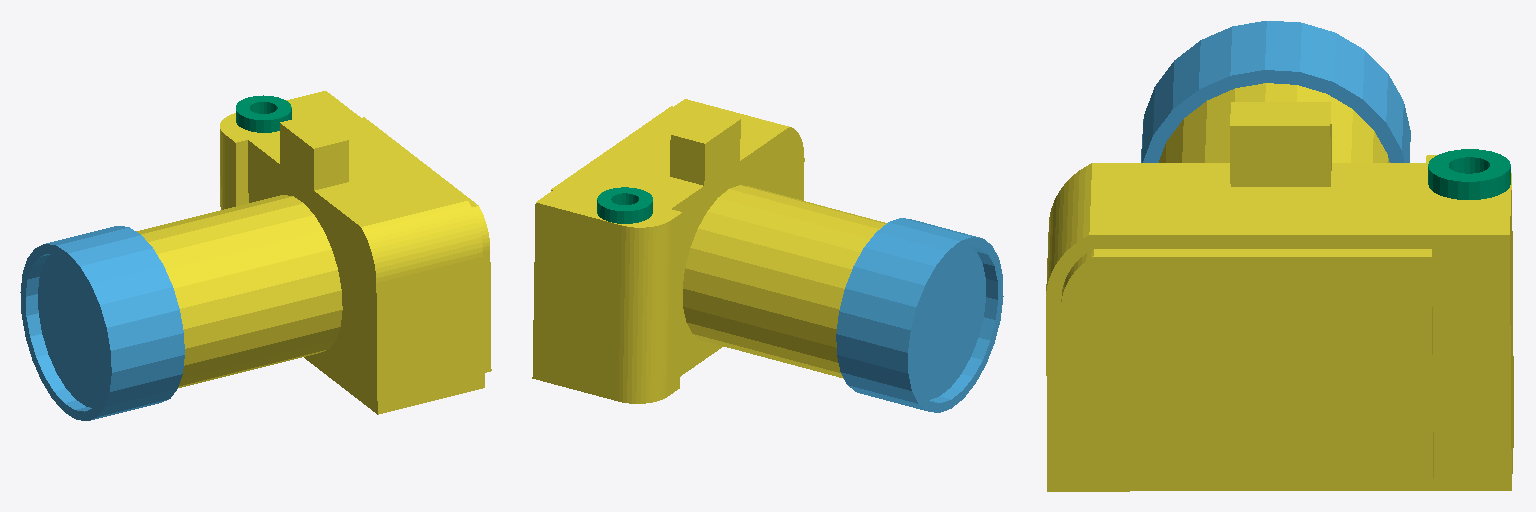
The robot description file, URDF, robot "partnet_cfa38a13-3ce2-4cd8-bfe1-3fa303e247cb":
<?xml version="1.0" ?>
<robot name="partnet_cfa38a13-3ce2-4cd8-bfe1-3fa303e247cb">
	<link name="base"/>
	<link name="link_0">
		<visual name="lens-1">
			<origin xyz="-0.045328572316667884 0.009761024184854892 -0.0005771129075103513"/>
			<geometry>
				<mesh filename="textured_objs/original-16.obj"/>
			</geometry>
		</visual>
		<visual name="lens-1">
			<origin xyz="-0.045328572316667884 0.009761024184854892 -0.0005771129075103513"/>
			<geometry>
				<mesh filename="textured_objs/original-18.obj"/>
			</geometry>
		</visual>
		<visual name="lens-1">
			<origin xyz="-0.045328572316667884 0.009761024184854892 -0.0005771129075103513"/>
			<geometry>
				<mesh filename="textured_objs/original-17.obj"/>
			</geometry>
		</visual>
		<visual name="lens-1">
			<origin xyz="-0.045328572316667884 0.009761024184854892 -0.0005771129075103513"/>
			<geometry>
				<mesh filename="textured_objs/original-12.obj"/>
			</geometry>
		</visual>
		<visual name="lens-1">
			<origin xyz="-0.045328572316667884 0.009761024184854892 -0.0005771129075103513"/>
			<geometry>
				<mesh filename="textured_objs/original-22.obj"/>
			</geometry>
		</visual>
		<visual name="lens-1">
			<origin xyz="-0.045328572316667884 0.009761024184854892 -0.0005771129075103513"/>
			<geometry>
				<mesh filename="textured_objs/original-23.obj"/>
			</geometry>
		</visual>
		<collision>
			<origin xyz="-0.045328572316667884 0.009761024184854892 -0.0005771129075103513"/>
			<geometry>
				<mesh filename="textured_objs/original-16.obj"/>
			</geometry>
		</collision>
		<collision>
			<origin xyz="-0.045328572316667884 0.009761024184854892 -0.0005771129075103513"/>
			<geometry>
				<mesh filename="textured_objs/original-18.obj"/>
			</geometry>
		</collision>
		<collision>
			<origin xyz="-0.045328572316667884 0.009761024184854892 -0.0005771129075103513"/>
			<geometry>
				<mesh filename="textured_objs/original-17.obj"/>
			</geometry>
		</collision>
		<collision>
			<origin xyz="-0.045328572316667884 0.009761024184854892 -0.0005771129075103513"/>
			<geometry>
				<mesh filename="textured_objs/original-12.obj"/>
			</geometry>
		</collision>
		<collision>
			<origin xyz="-0.045328572316667884 0.009761024184854892 -0.0005771129075103513"/>
			<geometry>
				<mesh filename="textured_objs/original-22.obj"/>
			</geometry>
		</collision>
		<collision>
			<origin xyz="-0.045328572316667884 0.009761024184854892 -0.0005771129075103513"/>
			<geometry>
				<mesh filename="textured_objs/original-23.obj"/>
			</geometry>
		</collision>
	</link>
	<joint name="joint_0" type="continuous">
		<origin xyz="0.045328572316667884 -0.009761024184854892 0.0005771129075103513"/>
		<axis xyz="-0.015700129981561266 -0.013797493536876352 0.99978154368375"/>
		<child link="link_0"/>
		<parent link="link_2"/>
	</joint>
	<link name="link_1">
		<visual name="button-2">
			<origin xyz="0.5121479458437418 -0.008256107352878074 0.32324092971582635"/>
			<geometry>
				<mesh filename="textured_objs/original-5.obj"/>
			</geometry>
		</visual>
		<visual name="button-2">
			<origin xyz="0.5121479458437418 -0.008256107352878074 0.32324092971582635"/>
			<geometry>
				<mesh filename="textured_objs/original-6.obj"/>
			</geometry>
		</visual>
		<collision>
			<origin xyz="0.5121479458437418 -0.008256107352878074 0.32324092971582635"/>
			<geometry>
				<mesh filename="textured_objs/original-5.obj"/>
			</geometry>
		</collision>
		<collision>
			<origin xyz="0.5121479458437418 -0.008256107352878074 0.32324092971582635"/>
			<geometry>
				<mesh filename="textured_objs/original-6.obj"/>
			</geometry>
		</collision>
	</link>
	<joint name="joint_1" type="prismatic">
		<origin xyz="-0.5121479458437418 0.008256107352878074 -0.32324092971582635"/>
		<axis xyz="-0.007326904123584097 -0.999876133324162 -0.013929626150283573"/>
		<child link="link_1"/>
		<parent link="link_2"/>
		<limit lower="0" upper="0.052000000000000046"/>
	</joint>
	<link name="link_2">
		<visual name="base_body-3">
			<origin xyz="0 0 0"/>
			<geometry>
				<mesh filename="textured_objs/original-21.obj"/>
			</geometry>
		</visual>
		<visual name="base_body-3">
			<origin xyz="0 0 0"/>
			<geometry>
				<mesh filename="textured_objs/original-28.obj"/>
			</geometry>
		</visual>
		<visual name="base_body-3">
			<origin xyz="0 0 0"/>
			<geometry>
				<mesh filename="textured_objs/original-26.obj"/>
			</geometry>
		</visual>
		<visual name="base_body-3">
			<origin xyz="0 0 0"/>
			<geometry>
				<mesh filename="textured_objs/original-3.obj"/>
			</geometry>
		</visual>
		<visual name="base_body-3">
			<origin xyz="0 0 0"/>
			<geometry>
				<mesh filename="textured_objs/original-2.obj"/>
			</geometry>
		</visual>
		<visual name="base_body-3">
			<origin xyz="0 0 0"/>
			<geometry>
				<mesh filename="textured_objs/original-8.obj"/>
			</geometry>
		</visual>
		<visual name="base_body-3">
			<origin xyz="0 0 0"/>
			<geometry>
				<mesh filename="textured_objs/original-13.obj"/>
			</geometry>
		</visual>
		<visual name="base_body-3">
			<origin xyz="0 0 0"/>
			<geometry>
				<mesh filename="textured_objs/original-9.obj"/>
			</geometry>
		</visual>
		<visual name="base_body-3">
			<origin xyz="0 0 0"/>
			<geometry>
				<mesh filename="textured_objs/original-27.obj"/>
			</geometry>
		</visual>
		<visual name="base_body-3">
			<origin xyz="0 0 0"/>
			<geometry>
				<mesh filename="textured_objs/original-15.obj"/>
			</geometry>
		</visual>
		<visual name="base_body-3">
			<origin xyz="0 0 0"/>
			<geometry>
				<mesh filename="textured_objs/original-11.obj"/>
			</geometry>
		</visual>
		<visual name="base_body-3">
			<origin xyz="0 0 0"/>
			<geometry>
				<mesh filename="textured_objs/original-25.obj"/>
			</geometry>
		</visual>
		<visual name="base_body-3">
			<origin xyz="0 0 0"/>
			<geometry>
				<mesh filename="textured_objs/original-24.obj"/>
			</geometry>
		</visual>
		<visual name="base_body-3">
			<origin xyz="0 0 0"/>
			<geometry>
				<mesh filename="textured_objs/original-20.obj"/>
			</geometry>
		</visual>
		<visual name="base_body-3">
			<origin xyz="0 0 0"/>
			<geometry>
				<mesh filename="textured_objs/original-7.obj"/>
			</geometry>
		</visual>
		<visual name="base_body-3">
			<origin xyz="0 0 0"/>
			<geometry>
				<mesh filename="textured_objs/original-1.obj"/>
			</geometry>
		</visual>
		<visual name="base_body-3">
			<origin xyz="0 0 0"/>
			<geometry>
				<mesh filename="textured_objs/original-10.obj"/>
			</geometry>
		</visual>
		<visual name="base_body-3">
			<origin xyz="0 0 0"/>
			<geometry>
				<mesh filename="textured_objs/original-14.obj"/>
			</geometry>
		</visual>
		<visual name="base_body-3">
			<origin xyz="0 0 0"/>
			<geometry>
				<mesh filename="textured_objs/original-19.obj"/>
			</geometry>
		</visual>
		<collision>
			<origin xyz="0 0 0"/>
			<geometry>
				<mesh filename="textured_objs/original-21.obj"/>
			</geometry>
		</collision>
		<collision>
			<origin xyz="0 0 0"/>
			<geometry>
				<mesh filename="textured_objs/original-28.obj"/>
			</geometry>
		</collision>
		<collision>
			<origin xyz="0 0 0"/>
			<geometry>
				<mesh filename="textured_objs/original-26.obj"/>
			</geometry>
		</collision>
		<collision>
			<origin xyz="0 0 0"/>
			<geometry>
				<mesh filename="textured_objs/original-3.obj"/>
			</geometry>
		</collision>
		<collision>
			<origin xyz="0 0 0"/>
			<geometry>
				<mesh filename="textured_objs/original-2.obj"/>
			</geometry>
		</collision>
		<collision>
			<origin xyz="0 0 0"/>
			<geometry>
				<mesh filename="textured_objs/original-8.obj"/>
			</geometry>
		</collision>
		<collision>
			<origin xyz="0 0 0"/>
			<geometry>
				<mesh filename="textured_objs/original-13.obj"/>
			</geometry>
		</collision>
		<collision>
			<origin xyz="0 0 0"/>
			<geometry>
				<mesh filename="textured_objs/original-9.obj"/>
			</geometry>
		</collision>
		<collision>
			<origin xyz="0 0 0"/>
			<geometry>
				<mesh filename="textured_objs/original-27.obj"/>
			</geometry>
		</collision>
		<collision>
			<origin xyz="0 0 0"/>
			<geometry>
				<mesh filename="textured_objs/original-15.obj"/>
			</geometry>
		</collision>
		<collision>
			<origin xyz="0 0 0"/>
			<geometry>
				<mesh filename="textured_objs/original-11.obj"/>
			</geometry>
		</collision>
		<collision>
			<origin xyz="0 0 0"/>
			<geometry>
				<mesh filename="textured_objs/original-25.obj"/>
			</geometry>
		</collision>
		<collision>
			<origin xyz="0 0 0"/>
			<geometry>
				<mesh filename="textured_objs/original-24.obj"/>
			</geometry>
		</collision>
		<collision>
			<origin xyz="0 0 0"/>
			<geometry>
				<mesh filename="textured_objs/original-20.obj"/>
			</geometry>
		</collision>
		<collision>
			<origin xyz="0 0 0"/>
			<geometry>
				<mesh filename="textured_objs/original-7.obj"/>
			</geometry>
		</collision>
		<collision>
			<origin xyz="0 0 0"/>
			<geometry>
				<mesh filename="textured_objs/original-1.obj"/>
			</geometry>
		</collision>
		<collision>
			<origin xyz="0 0 0"/>
			<geometry>
				<mesh filename="textured_objs/original-10.obj"/>
			</geometry>
		</collision>
		<collision>
			<origin xyz="0 0 0"/>
			<geometry>
				<mesh filename="textured_objs/original-14.obj"/>
			</geometry>
		</collision>
		<collision>
			<origin xyz="0 0 0"/>
			<geometry>
				<mesh filename="textured_objs/original-19.obj"/>
			</geometry>
		</collision>
	</link>
	<joint name="joint_2" type="fixed">
		<origin rpy="1.570796326794897 0 -1.570796326794897" xyz="0 0 0"/>
		<child link="link_2"/>
		<parent link="base"/>
	</joint>
</robot>

--- What the picture shows (computed from the rendered views, not written in the file) ---
3 views of the same robot in one strip: view 1: azimuth 30°, elevation 25°; view 2: azimuth 150°, elevation 25°; view 3: azimuth 270°, elevation 25° (orthographic).
Robot: partnet_cfa38a13-3ce2-4cd8-bfe1-3fa303e247cb — 4 links, 3 joints (1 continuous, 1 prismatic, 1 fixed); root link base; default pose: every joint at zero.
Visible links, largest first — view 1: link_2, link_0, link_1; view 2: link_2, link_0, link_1; view 3: link_2, link_0, link_1.
Boxes of the visible links, x1,y1,x2,y2 form: link_2: [136, 91, 491, 414]; link_0: [20, 226, 184, 420]; link_1: [236, 95, 291, 132]; link_2: [532, 99, 886, 403]; link_0: [836, 218, 1003, 412]; link_1: [597, 187, 652, 223]; link_2: [1046, 83, 1513, 491]; link_0: [1141, 21, 1410, 162]; link_1: [1428, 149, 1510, 199].
Size in the robot's own frame: 1.65 by 1.31 by 0.983 metres.
27 mesh visuals loaded from 27 distinct referenced files (27 OBJ).